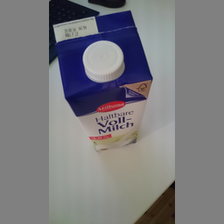milk: (49, 10, 160, 161)
